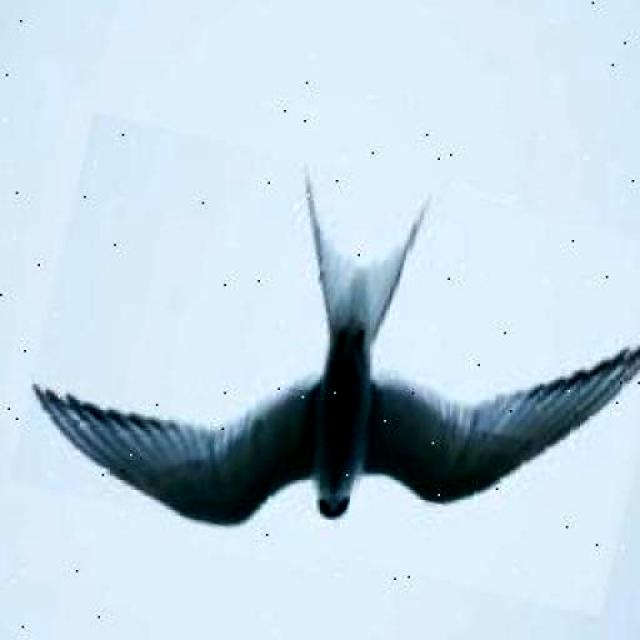airplane: (9, 112, 640, 616)
